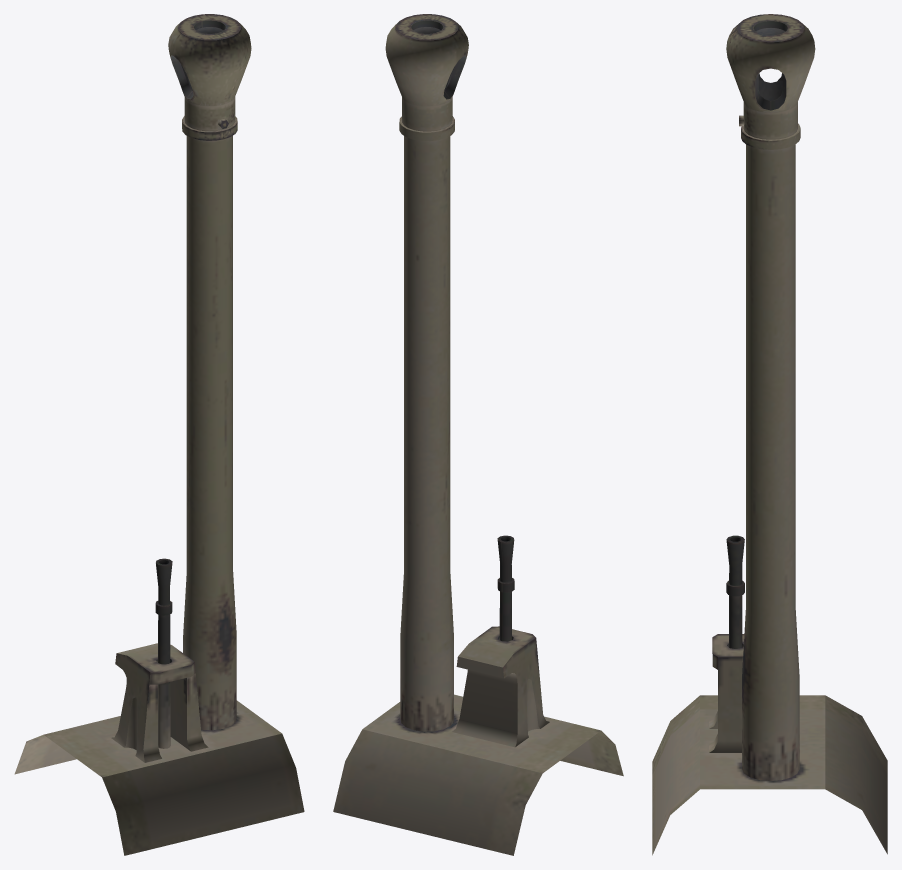
File: Gun_07.glb
The picture shows the model from 3 angles, left to right: view 1: azimuth 30°, elevation 25°; view 2: azimuth 150°, elevation 25°; view 3: azimuth 270°, elevation 25°; orthographic projection. The views are drawn at different scales.
Visible parts, largest first — view 1: set_0_group_0; view 2: set_0_group_0; view 3: set_0_group_0.
Part boxes in pixels (box(x1,y1,x2,y2)): set_0_group_0: box(14, 14, 304, 855); set_0_group_0: box(333, 14, 623, 855); set_0_group_0: box(652, 14, 887, 855).
Bounding box in the file's own units: 0.5352 × 2.14 × 0.5654.
Materials: 1 (1 with a texture image).
